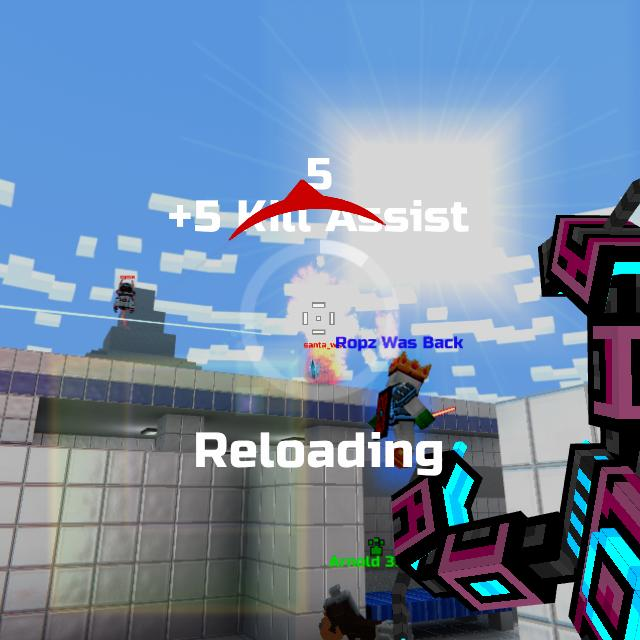Enemy: (308, 354, 332, 381)
